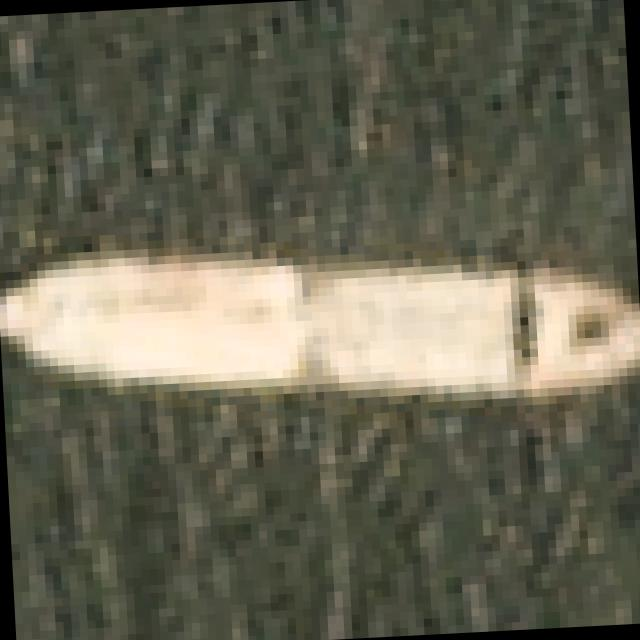ship: (0, 135, 640, 542)
